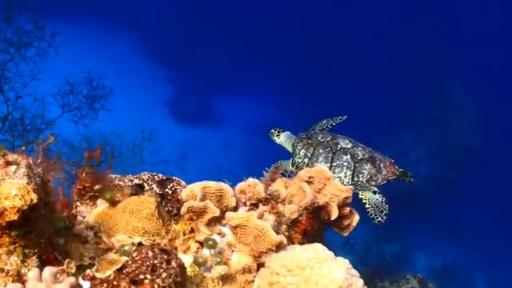Fish: (270, 116, 412, 223)
